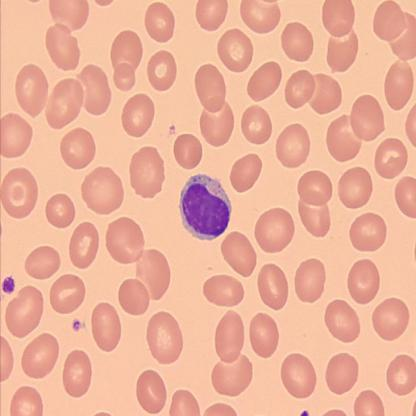Lymphocyte: (178, 173, 232, 242)
